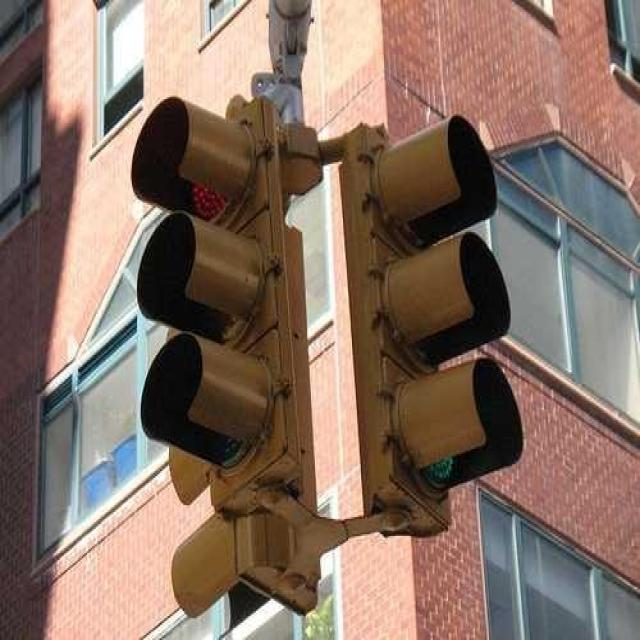Traffic Light -Green-: (341, 97, 530, 548)
Traffic Light -Red-: (116, 88, 307, 500)
